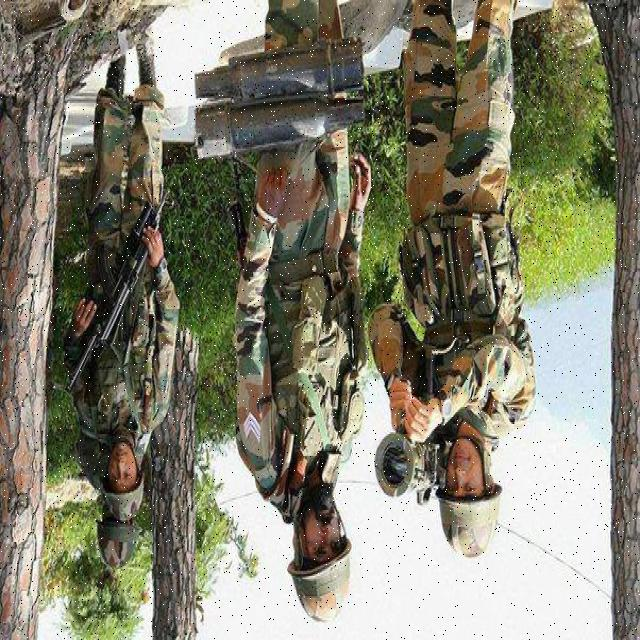bazooka: (374, 352, 451, 508)
